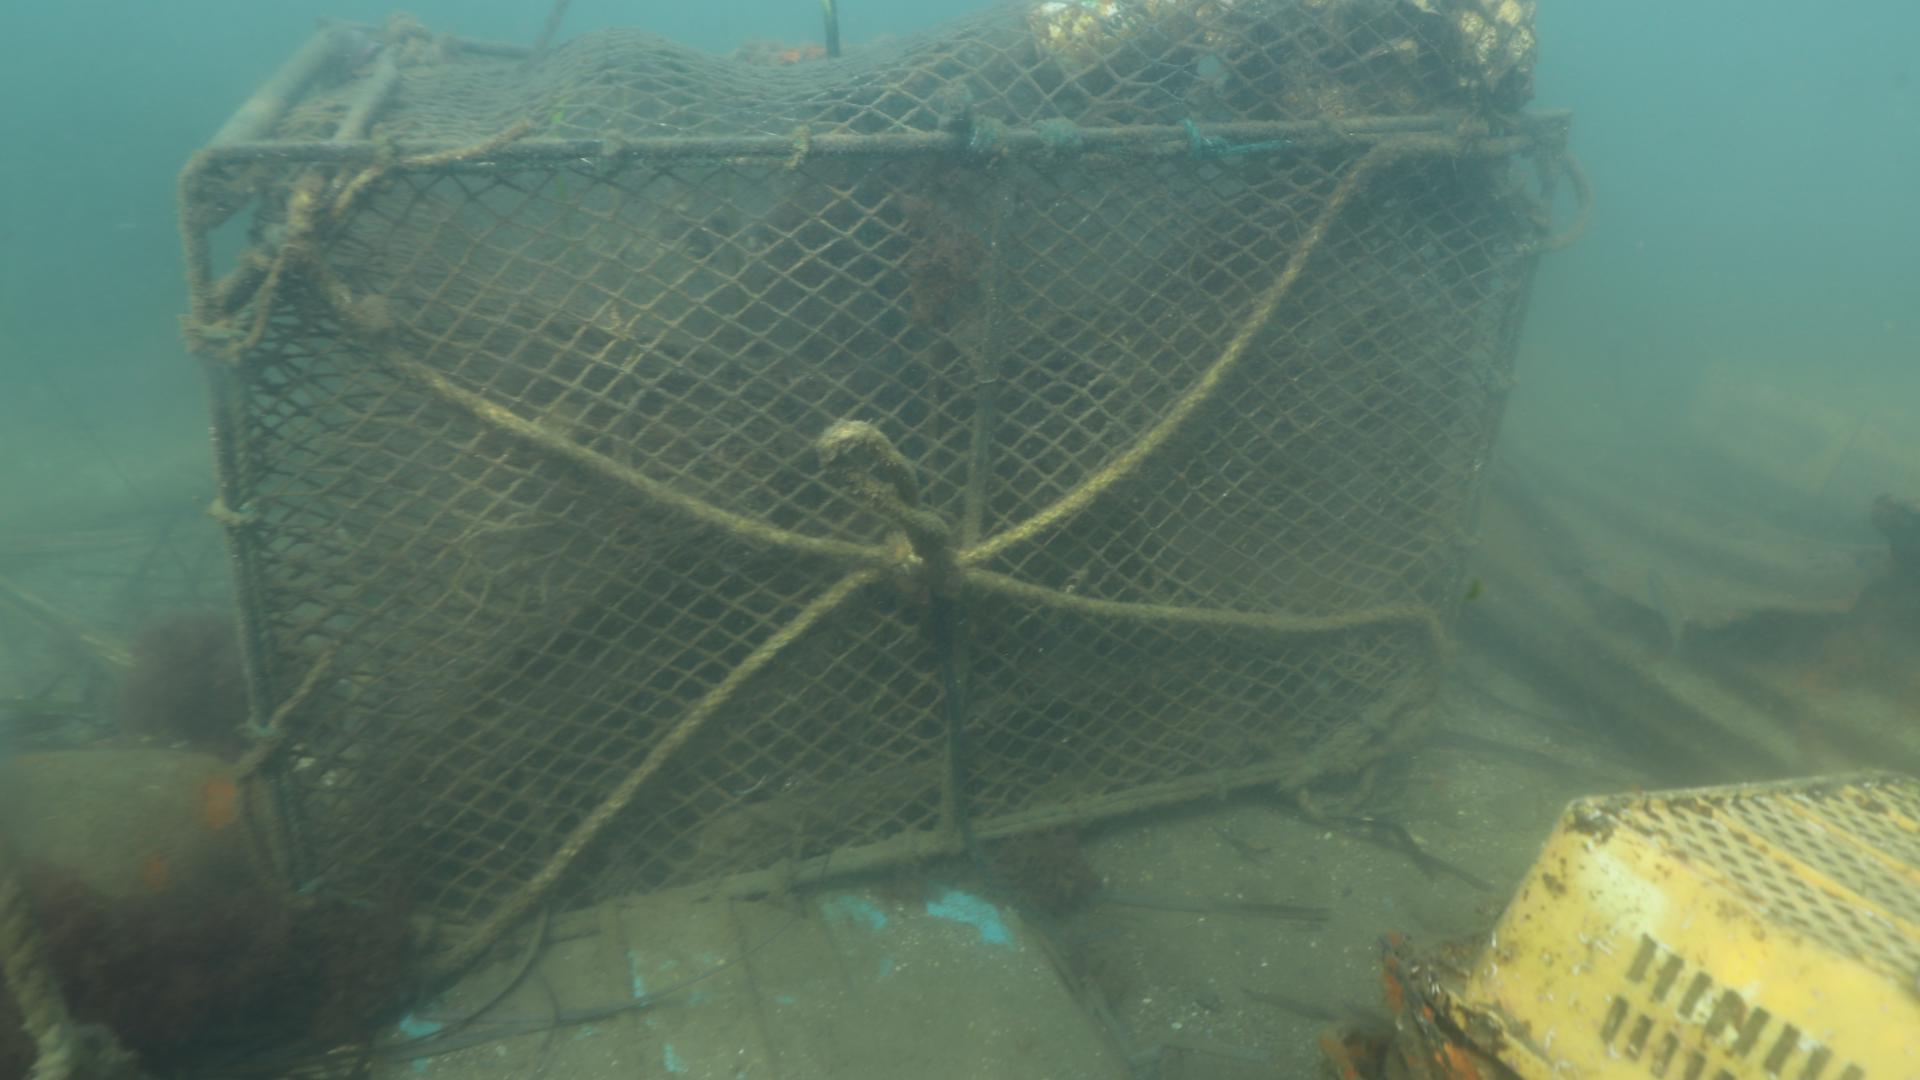rectangular fish trap: (171, 0, 1567, 961)
